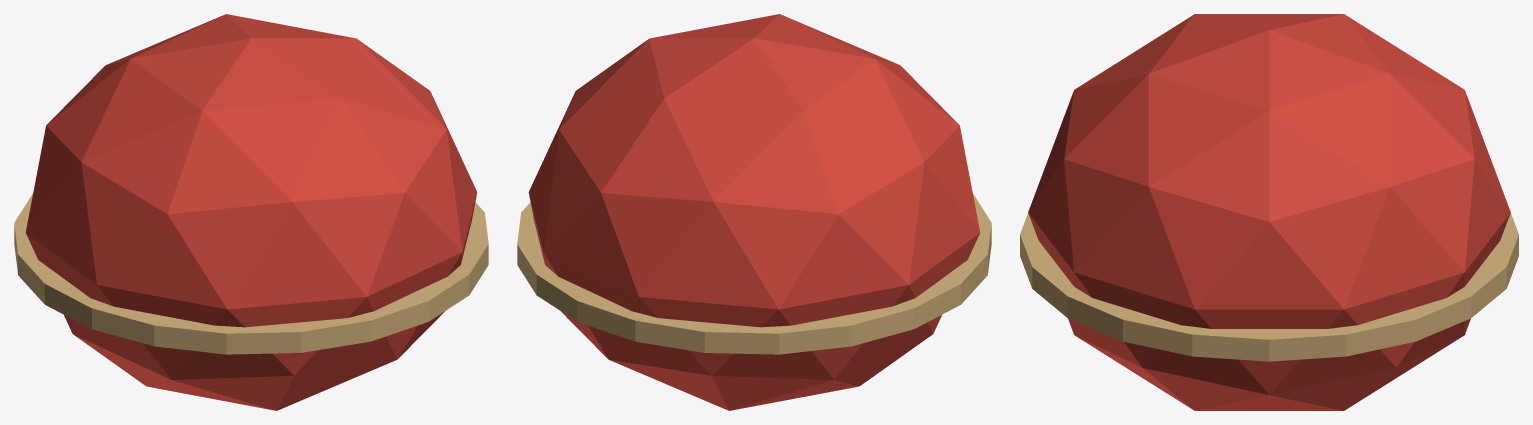
The picture shows the model from 3 angles, left to right: view 1: azimuth 30°, elevation 25°; view 2: azimuth 150°, elevation 25°; view 3: azimuth 270°, elevation 25°; orthographic projection. The views are drawn at different scales.
Parts seen in each view (by area): view 1: RC-015 Red rooftop dome batched; view 2: RC-015 Red rooftop dome batched; view 3: RC-015 Red rooftop dome batched.
Part boxes in pixels (box(x1,y1,x2,y2)): RC-015 Red rooftop dome batched: box(14, 14, 488, 410); RC-015 Red rooftop dome batched: box(517, 14, 991, 410); RC-015 Red rooftop dome batched: box(1020, 14, 1518, 410).
Size of the model in its own units: 6.2 by 5 by 6.2.
